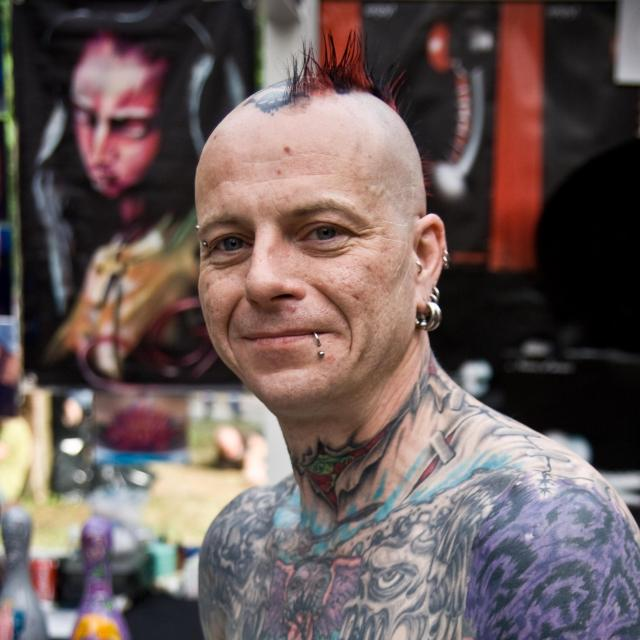no-glass: (196, 218, 358, 260)
